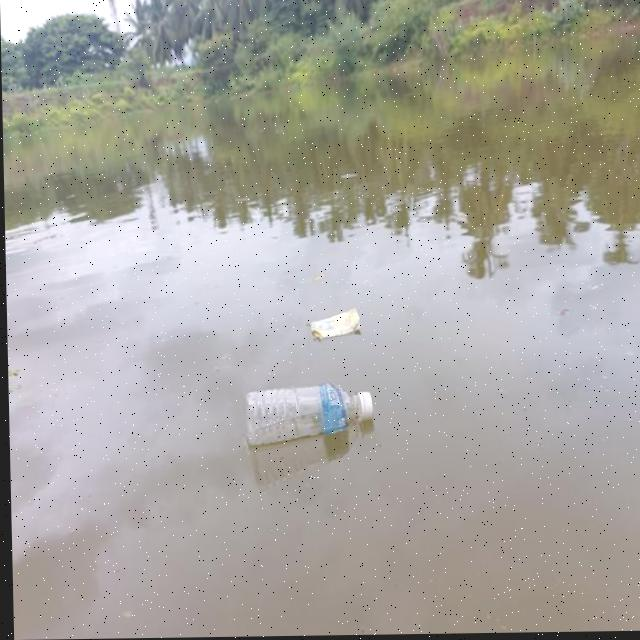paper: (305, 302, 369, 352)
waterbottle: (221, 389, 393, 448)
